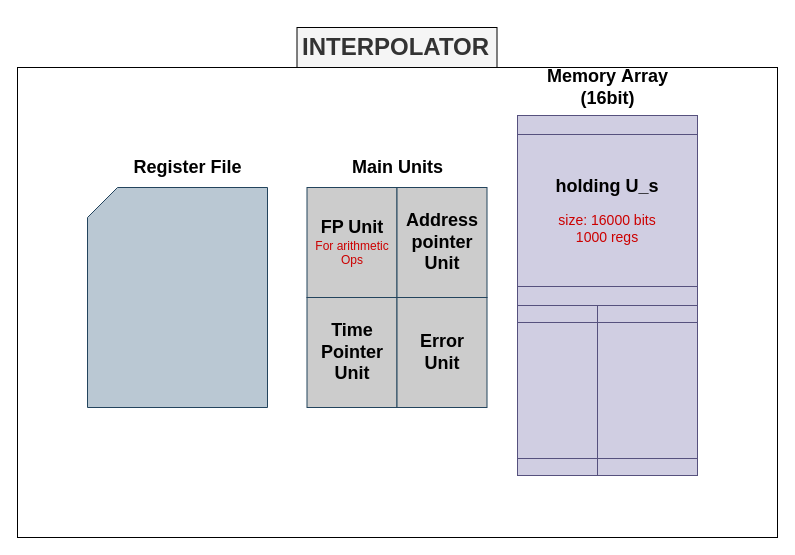
Some shapes in this 795 by 555 pixel diagram are drawn without their labels. The box of each missing label's shape, as (x1, y1, x2, y2) in pixels:
holding T_s size: 320 bits 20 regs: (516, 304, 598, 476)
holding U_out size: 3200 bits 200 regs: (596, 304, 698, 476)
Registers for Data designed later depending on your choice: (86, 186, 268, 408)
